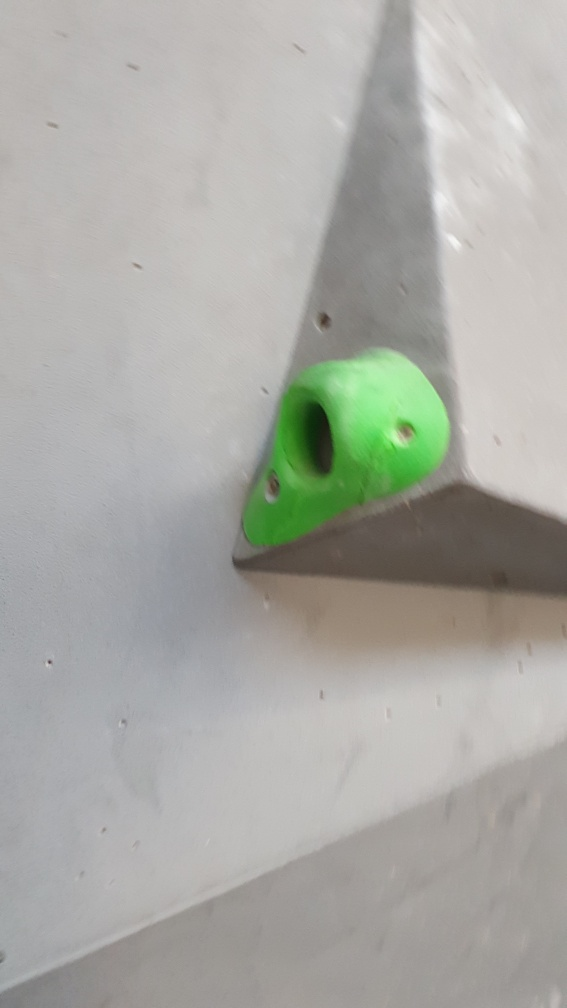Pocket: (241, 342, 454, 552)
